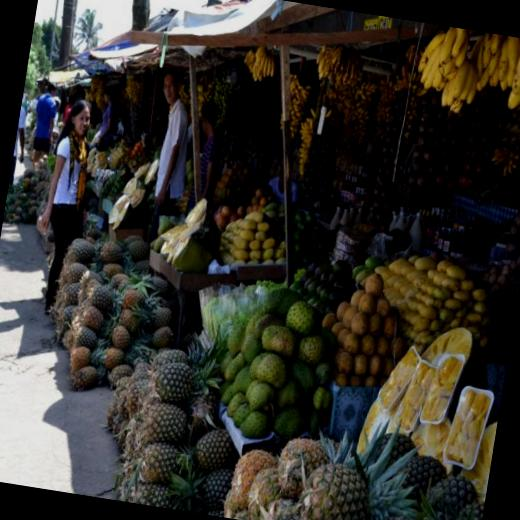Mango: (219, 393, 495, 520), (95, 315, 242, 515), (36, 223, 192, 402), (2, 158, 56, 230)
